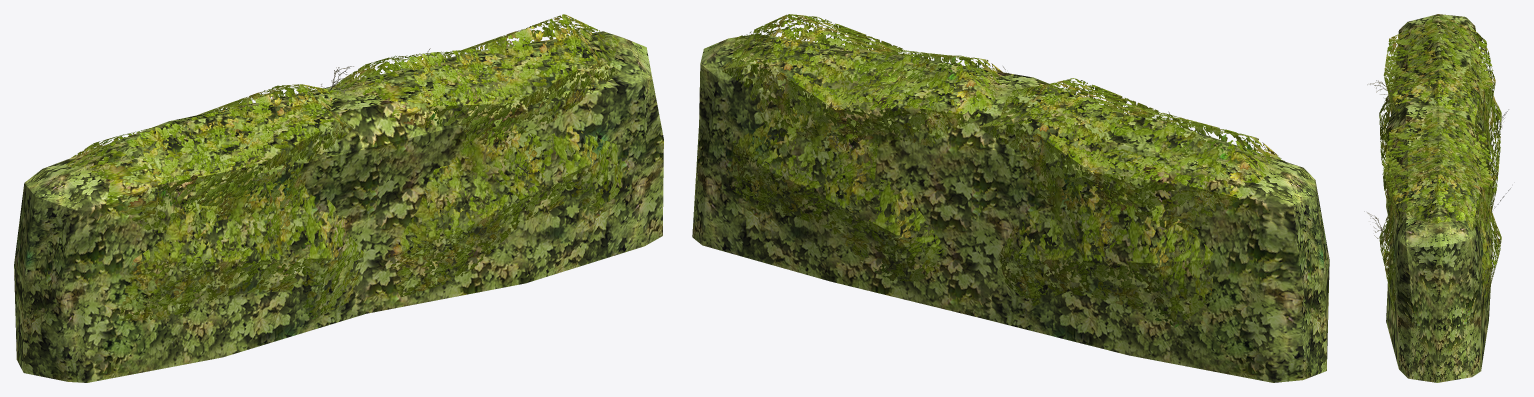
File: Maple_Medium.dae
The picture shows the model from 3 angles, left to right: view 1: azimuth 30°, elevation 25°; view 2: azimuth 150°, elevation 25°; view 3: azimuth 270°, elevation 25°; orthographic projection. The views are drawn at different scales.
Parts seen in each view (by area): view 1: mapleMedium; view 2: mapleMedium; view 3: mapleMedium.
Boxes of the visible parts, x1=… form: mapleMedium: x1=14, y1=14, x2=663, y2=382; mapleMedium: x1=692, y1=14, x2=1329, y2=382; mapleMedium: x1=1364, y1=14, x2=1510, y2=382.
Size of the model in its own units: 4.75 by 1.69 by 1.36.
1 material, 1 textured.
